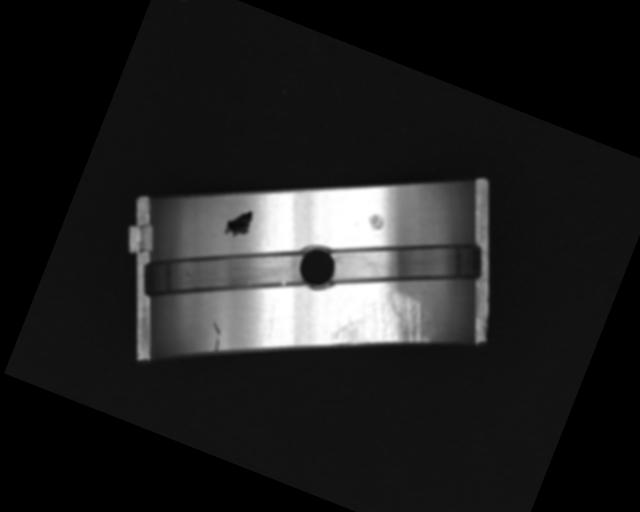blot: (221, 203, 256, 244)
bruise: (365, 211, 386, 233)
gap: (136, 200, 310, 342), (321, 195, 490, 330)
hole: (288, 239, 342, 296)
nick: (260, 303, 284, 339), (202, 322, 227, 354)
scratch: (326, 273, 445, 378)
